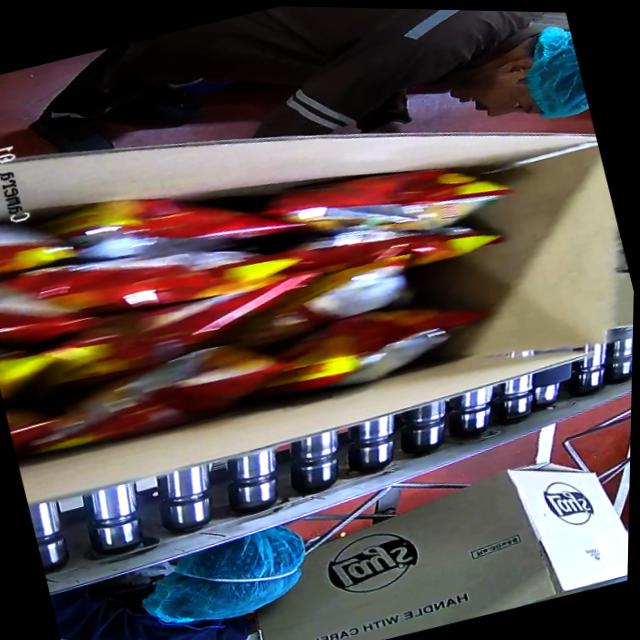MASALA: (0, 83, 543, 483)
